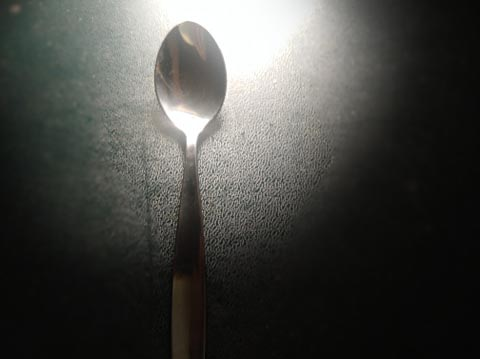Lyzka: (152, 18, 229, 136)
